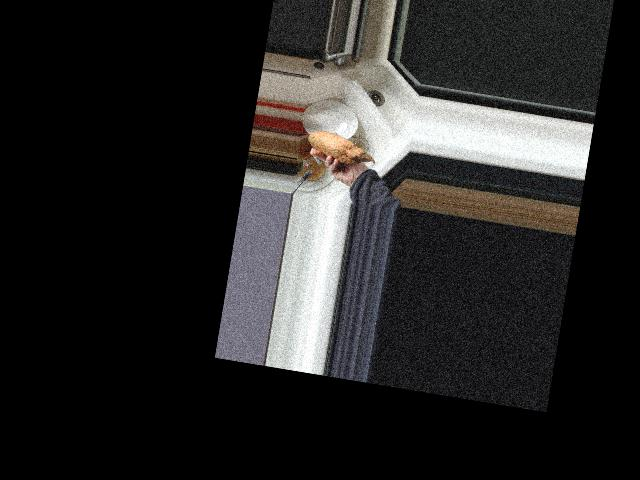sweet_potato: (305, 127, 379, 168)
